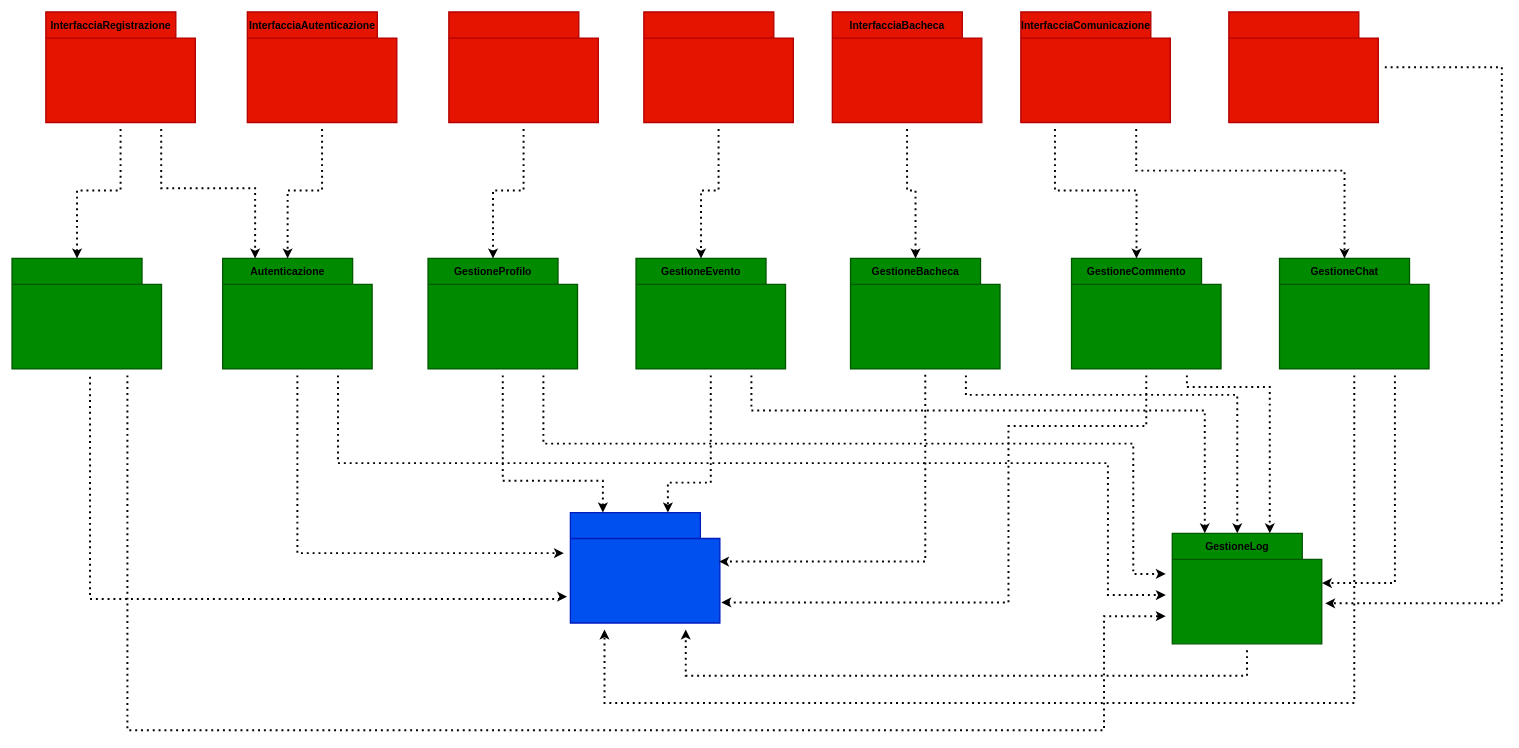
Image size: 1519x748. Some labels were removed from this diagram. The centre of each missing label's shape, as x and y in pixels:
"Dominio" belongs at point 644,567.
"InterfacciaEvento" belongs at point 718,67.
"InterfacciaLog" belongs at point 1303,67.
"InterfacciaProfilo" belongs at point 523,67.
"Registrazione" belongs at point 86,313.
